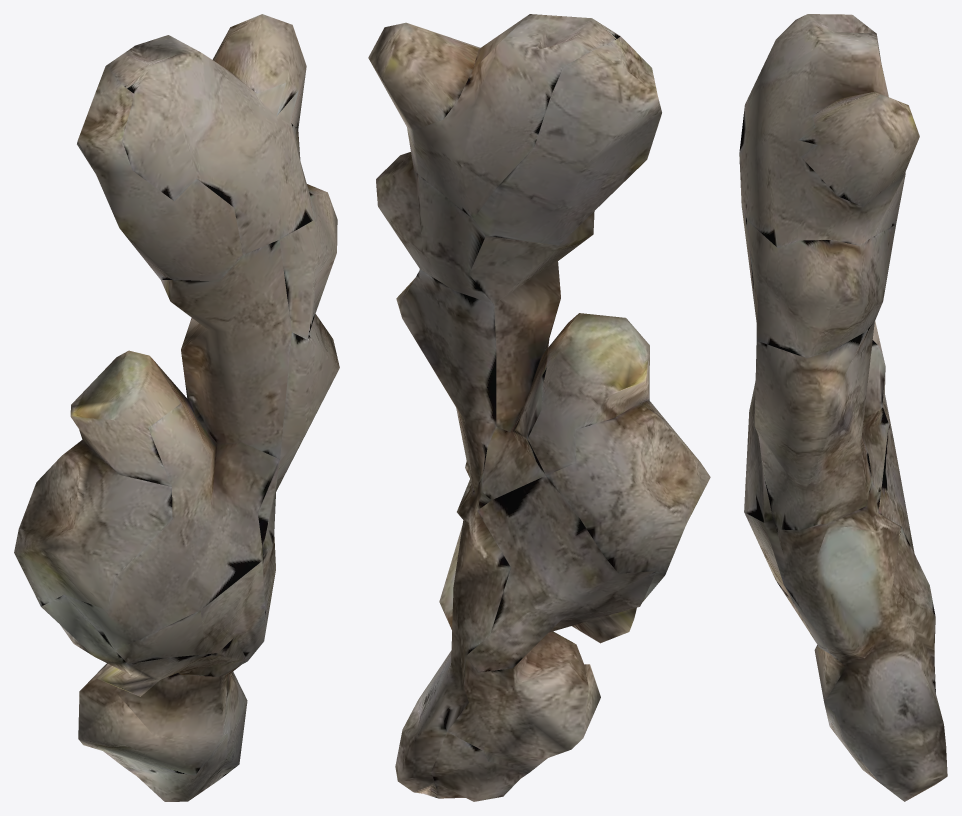
Rendered from food_ginger_01.glb.
3 renders of one model, left to right at view 1: azimuth 30°, elevation 25°; view 2: azimuth 150°, elevation 25°; view 3: azimuth 270°, elevation 25°, orthographic. The views are drawn at different scales.
Visible parts, largest first — view 1: food_ginger_01; view 2: food_ginger_01; view 3: food_ginger_01.
Part boxes in pixels (x1,y1,x2,y2): food_ginger_01: (14, 14, 339, 801); food_ginger_01: (368, 14, 710, 801); food_ginger_01: (739, 14, 947, 801).
Size of the model in its own units: 0.2399 by 0.5673 by 0.1461.
1 material, 1 textured.
